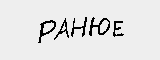А: (53, 17, 71, 44)
Е: (110, 18, 126, 37)
Н: (68, 15, 89, 39)
Р: (36, 16, 57, 43)
Ю: (87, 15, 111, 40)
